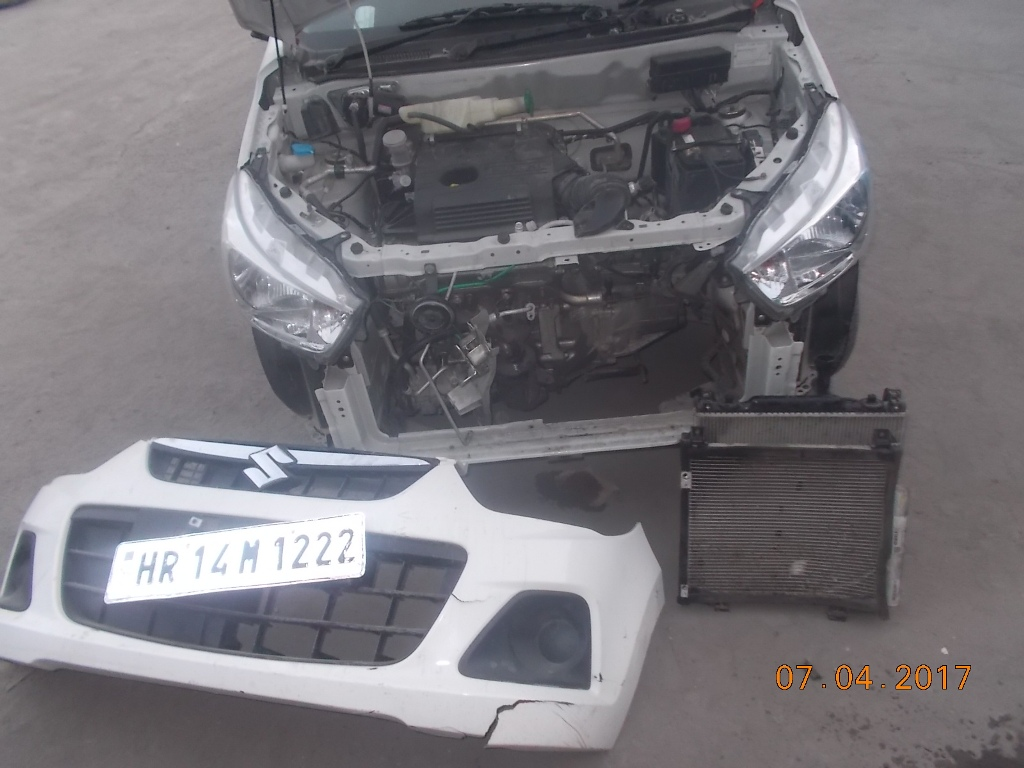Large_tear_or_damage: (169, 134, 918, 467)
